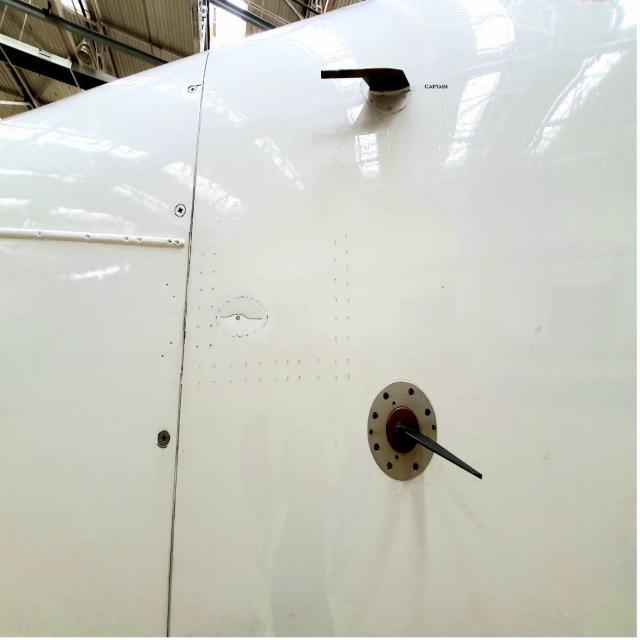crack: (222, 310, 266, 322)
